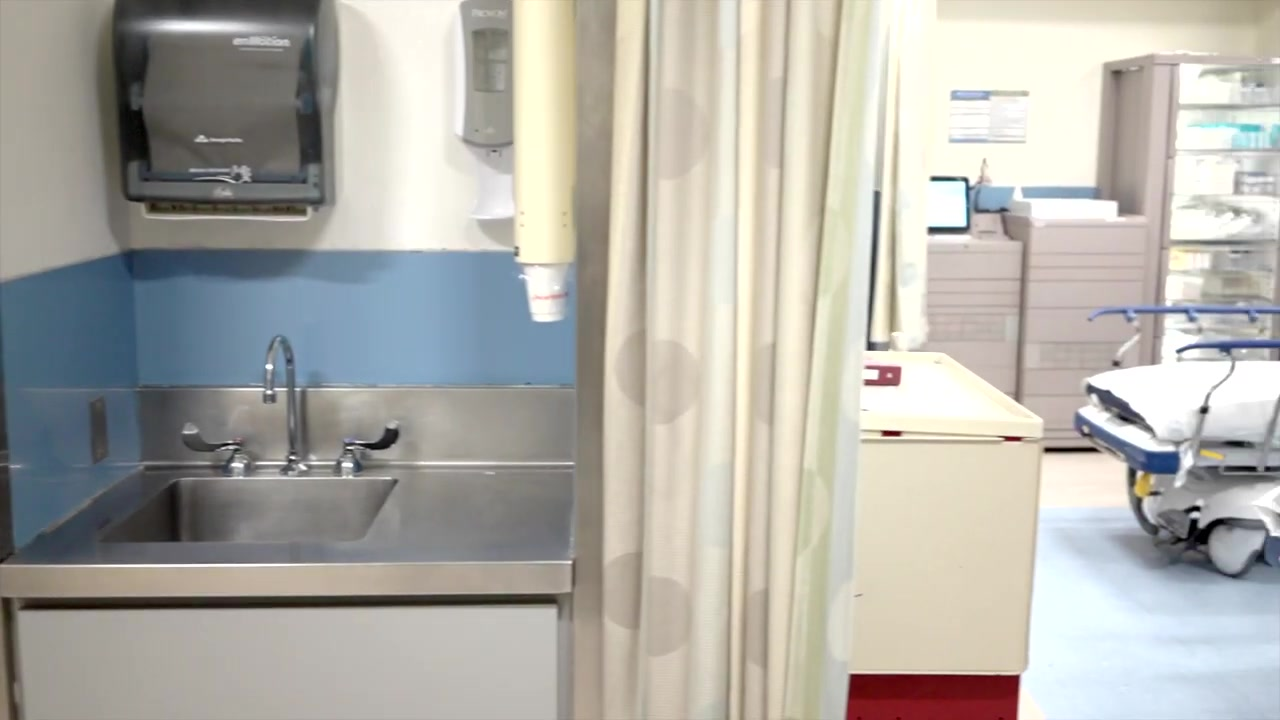bedrail: (1090, 302, 1280, 369), (1177, 341, 1280, 459)
bedside_monitor: (927, 175, 969, 235)
cabinet: (1104, 53, 1280, 372)
curtain: (571, 1, 865, 720), (864, 1, 934, 350)
dispenser: (109, 1, 338, 228), (449, 1, 520, 220)
drawer: (1007, 202, 1151, 449), (925, 237, 1020, 400)
faucet: (184, 336, 400, 478)
hospital_bed: (1073, 299, 1280, 575)
sink: (93, 464, 398, 559)
